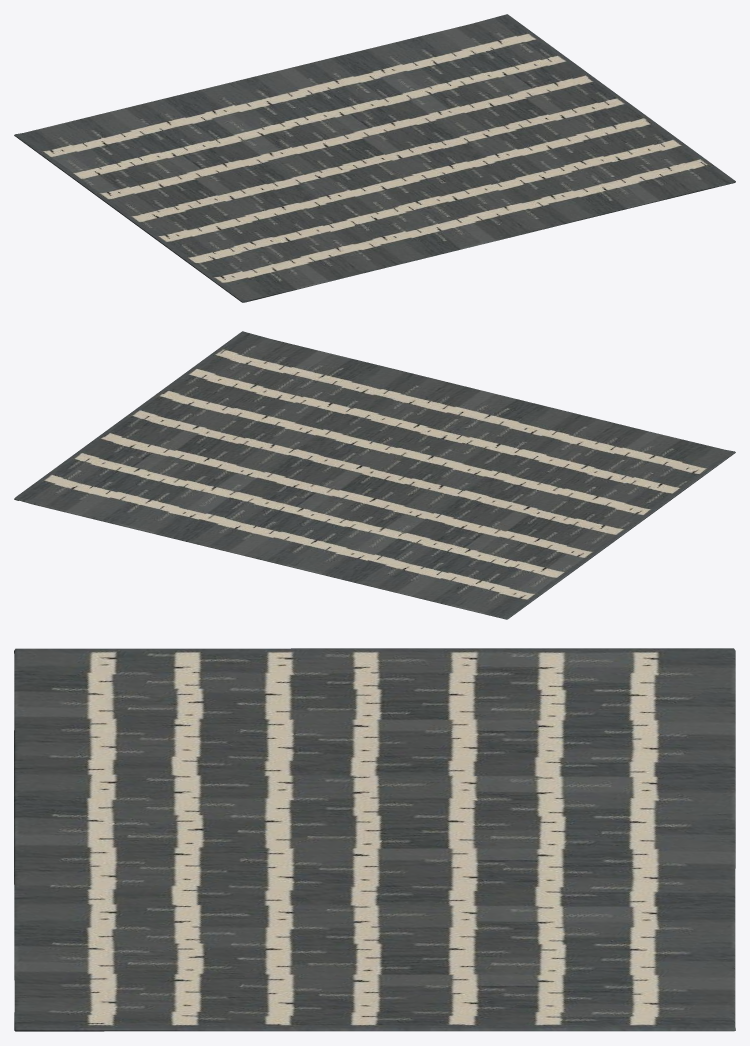
Rendered from 04 - STOCKHOLM 2025 Rug, flatwoven - greywhiteblack handwoven 240x300 cm.glb.
The picture shows the model from 3 angles, top to bottom: view 1: azimuth 30°, elevation 25°; view 2: azimuth 150°, elevation 25°; view 3: azimuth 270°, elevation 25°; orthographic projection. The views are drawn at different scales.
Visible parts, largest first — view 1: ASY_ART_40590973_S01_NV01; view 2: ASY_ART_40590973_S01_NV01; view 3: ASY_ART_40590973_S01_NV01.
Part boxes in pixels (x1,y1,x2,y2): ASY_ART_40590973_S01_NV01: (14, 14, 735, 302); ASY_ART_40590973_S01_NV01: (14, 331, 735, 619); ASY_ART_40590973_S01_NV01: (14, 648, 735, 1031).
Bounding box in the file's own units: 3 × 0.0147 × 2.41.
1 material, 1 textured.
